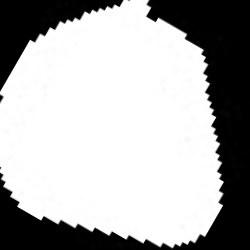spot: (2, 2, 222, 245)
